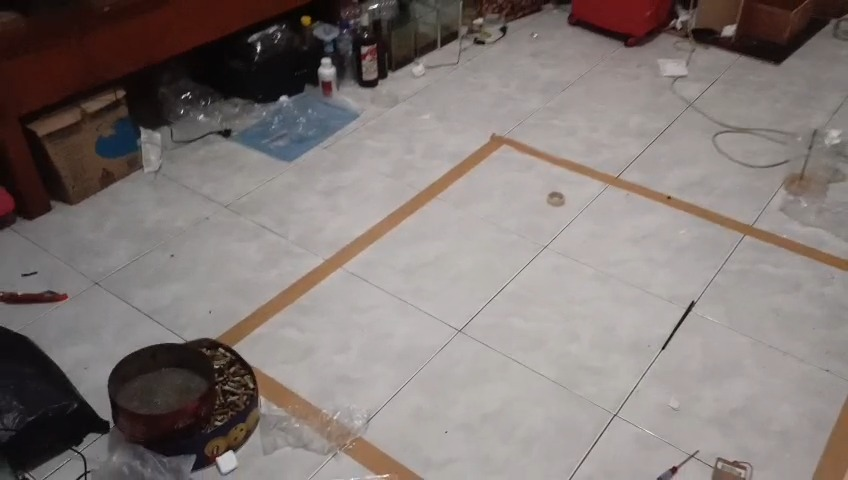floor marking: (218, 135, 847, 346), (254, 368, 321, 421), (346, 437, 421, 479), (814, 411, 847, 479)
